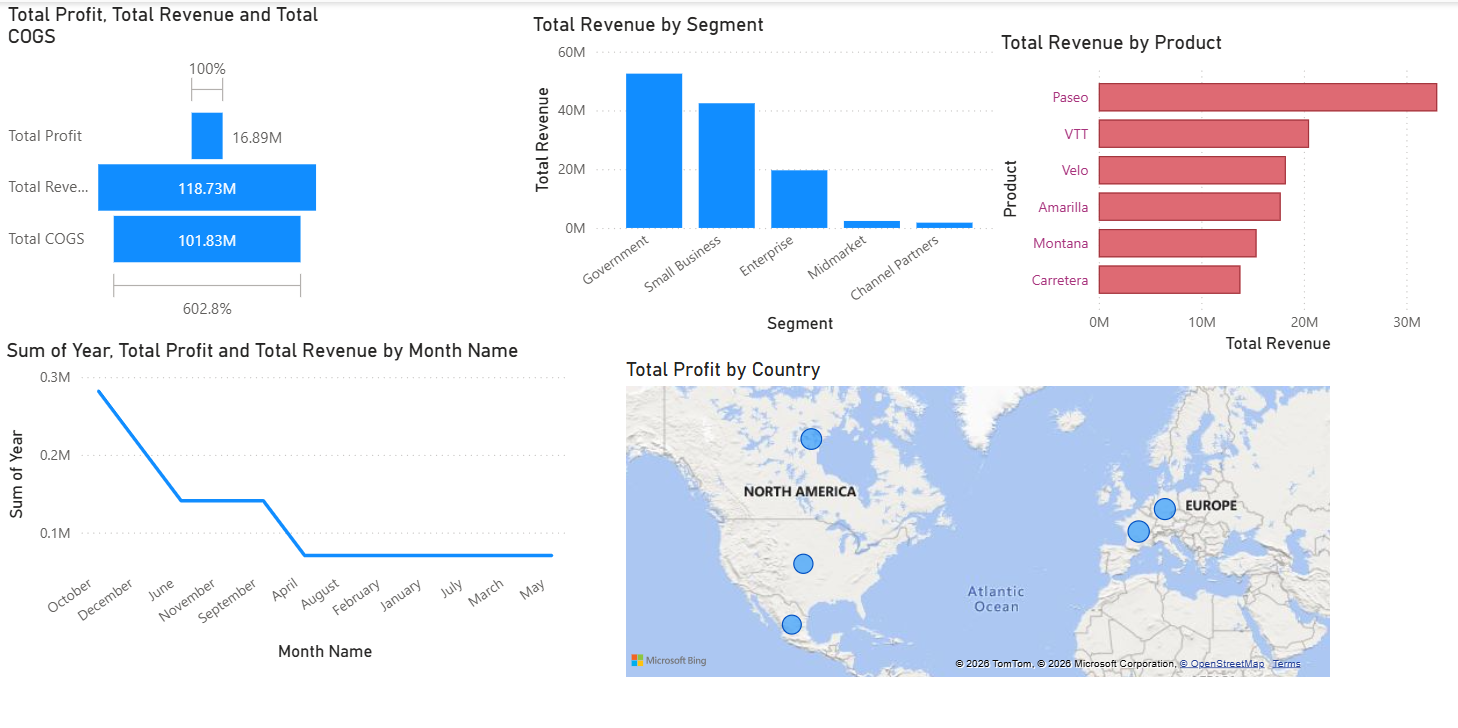

Layout of this report page (visuals, bound fields, positions):
{"tool":"powerbi","page":{"name":"Page 1","canvas":[1280,720],"ordinal":0},"visuals":[{"type":"funnel","fields":{"Y":["financials.Total Profit","financials.Total Revenue","financials.Total COGS"]},"box":[10,0,280,280],"z":0},{"type":"lineChart","fields":{"Category":["financials.Month Name"],"Y":["Sum(financials.Year)"]},"box":[9.4,289.1,493.2,281.6],"z":1},{"type":"columnChart","fields":{"Category":["financials.Segment"],"Y":["financials.Total Revenue"]},"box":[461.8,9.1,414.9,280.1],"z":2},{"type":"barChart","fields":{"Category":["financials.Product"],"Y":["financials.Total Revenue"]},"box":[864.6,24.2,414.9,281.6],"z":3},{"type":"map","fields":{"Category":["financials.Country"],"Size":["financials.Total Profit"]},"box":[542.1,305.9,616.3,280.1],"z":4}]}

Visuals, with their boxes on the page's 1280x720 design canvas (x1, y1, x2, y2). These are canvas units, not pixel positions in the 1458x728 screenshot, which may show the page scaled, cropped or inside an application window:
funnel - financials.Total Profit x financials.Total Revenue: BBox(10, 0, 290, 280)
lineChart - financials.Month Name x Sum(financials.Year): BBox(9, 289, 503, 571)
columnChart - financials.Segment x financials.Total Revenue: BBox(462, 9, 877, 289)
barChart - financials.Product x financials.Total Revenue: BBox(865, 24, 1280, 306)
map - financials.Country x financials.Total Profit: BBox(542, 306, 1158, 586)
